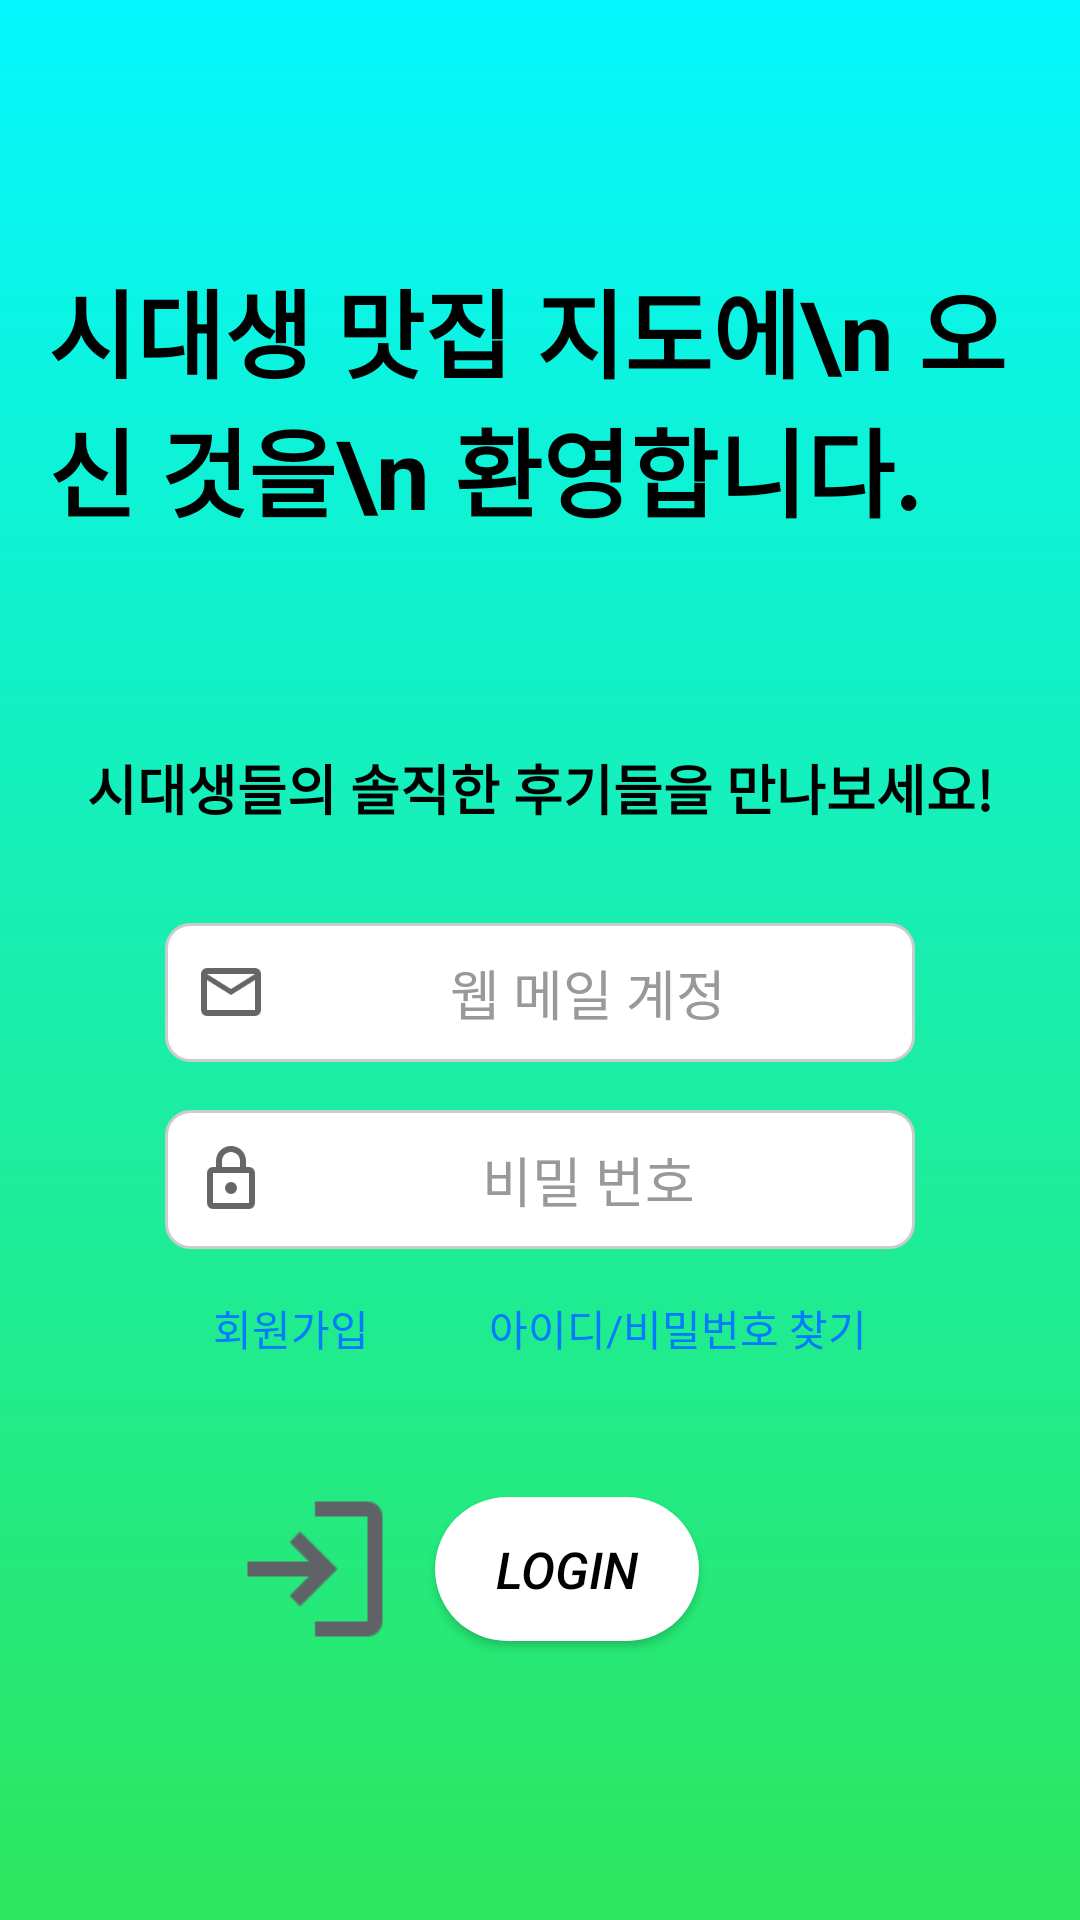

Named icons in this screenshot (1080w x 1920h) and their bounding boxes, BBox(x1, y1, x2, y2):
email: BBox(201, 968, 261, 1016)
password: BBox(207, 1146, 255, 1209)
